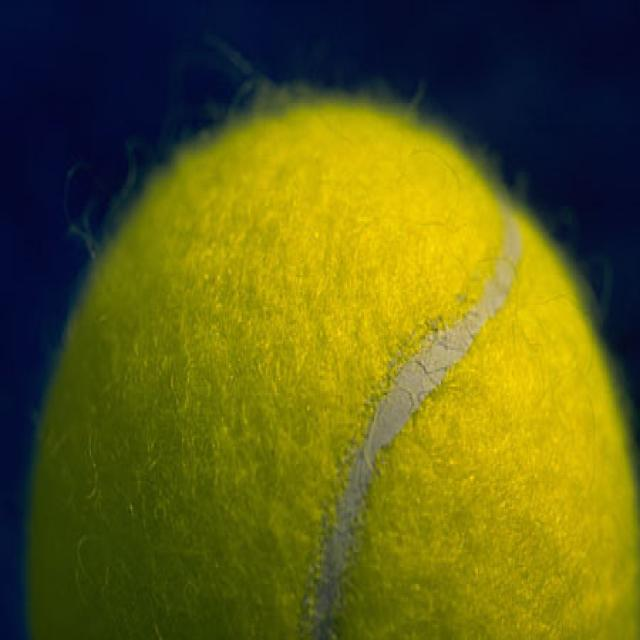Tennis Ball: (23, 75, 640, 640)
